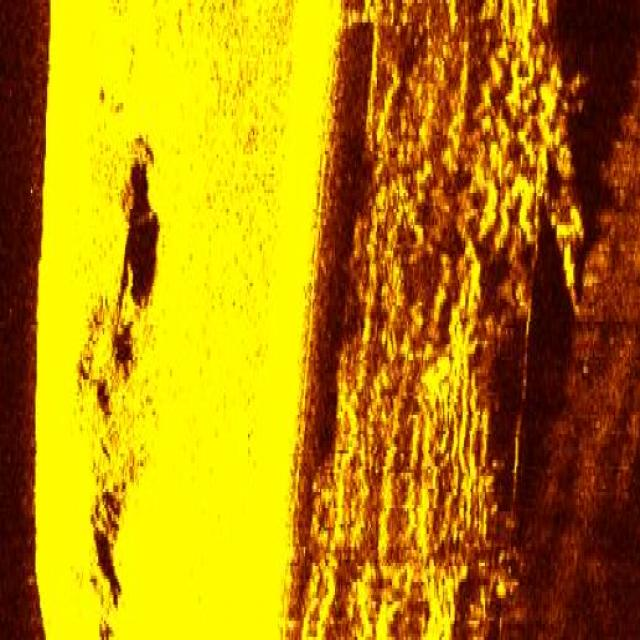other: (310, 0, 579, 637)
